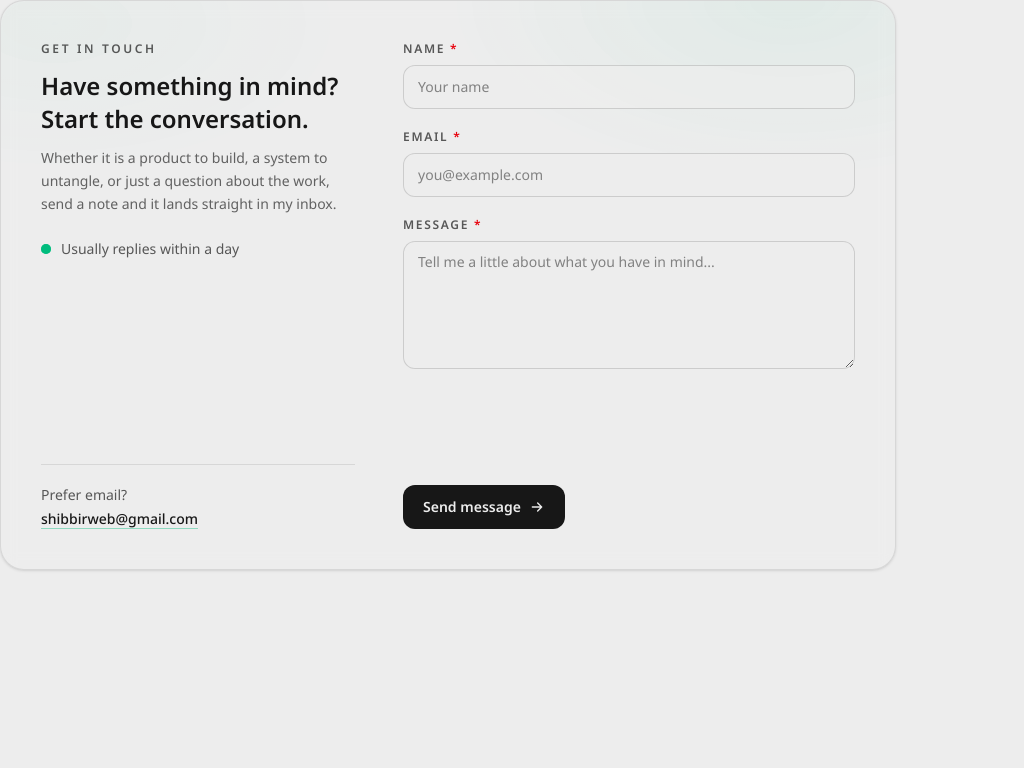
Scenario: ContactForm › falls back to a generic error when the provider gives none
The width and height of the screenshot is (1024, 768).
In the field labelled "Name *": (629, 87) x1=403 y1=65 x2=855 y2=109, type "Ada"
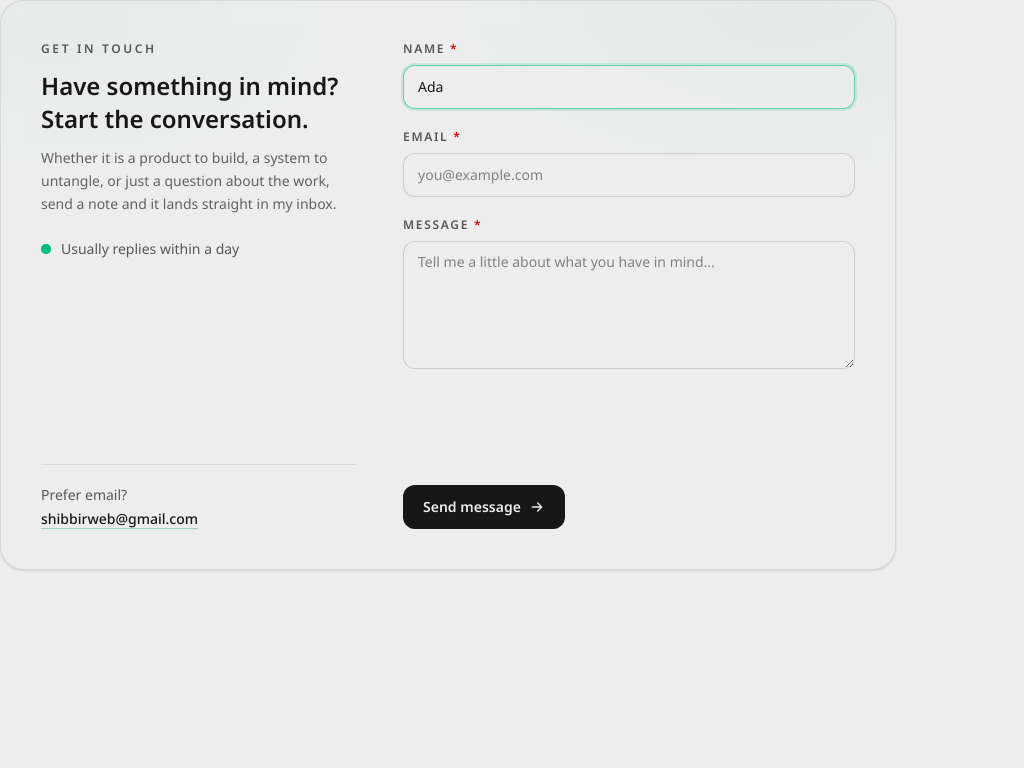
In the field labelled "Email *": (629, 175) x1=403 y1=153 x2=855 y2=197, type "ada@example.com"
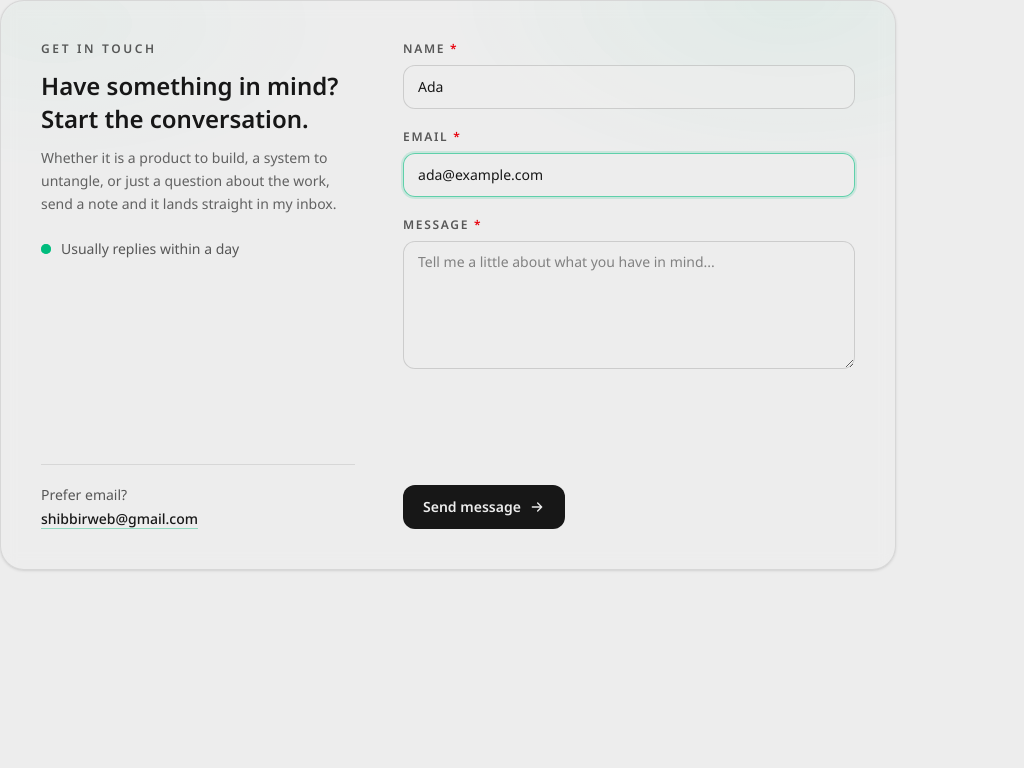
In the text box labelled "Message *": (629, 305) x1=403 y1=241 x2=855 y2=369, type "Hello there"
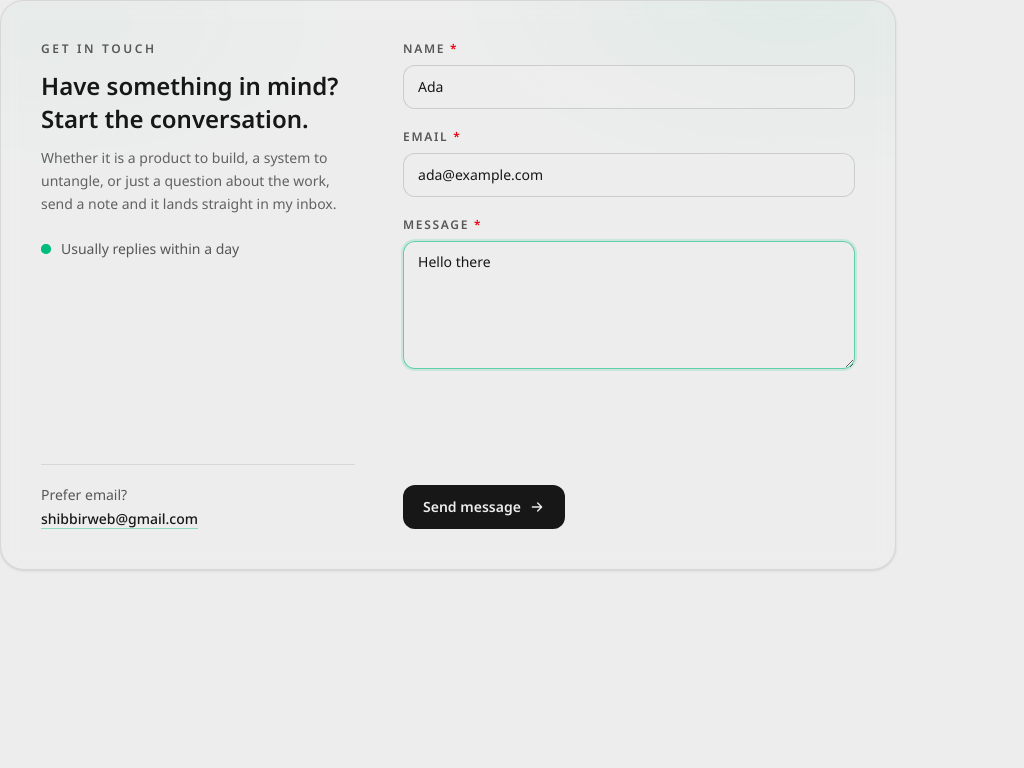
Click the button "Send message": (484, 507) x1=403 y1=485 x2=565 y2=529
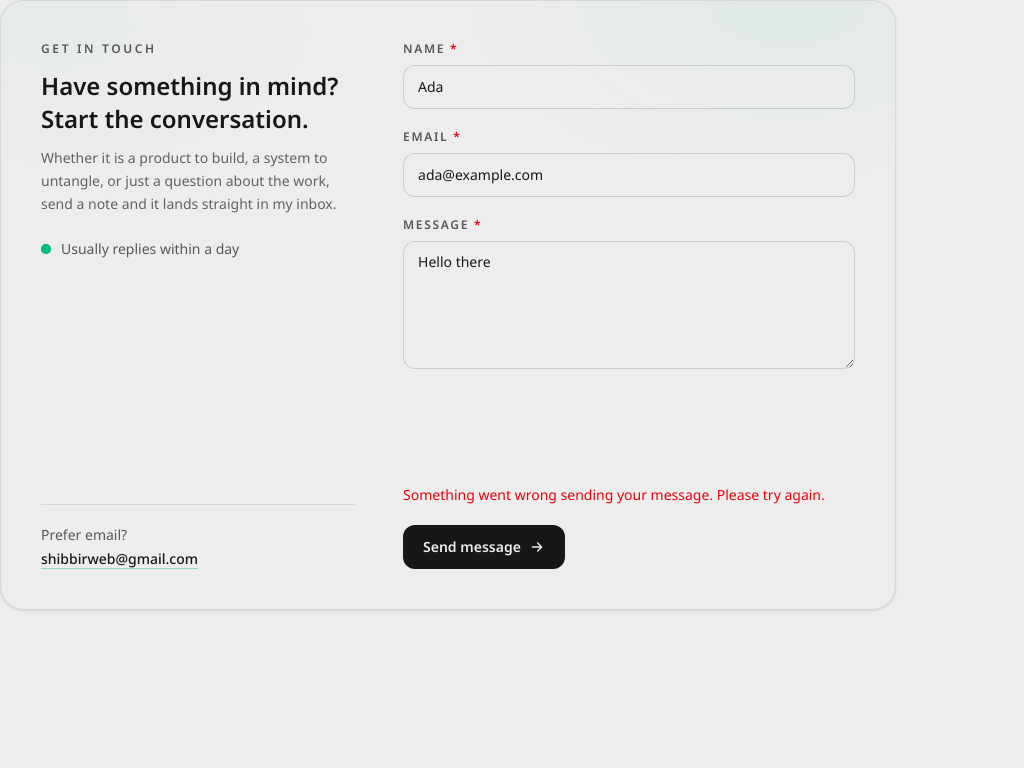
Check: the message reads "Something went wrong sending your message. Please try again.", box x1=403 y1=485 x2=825 y2=504
